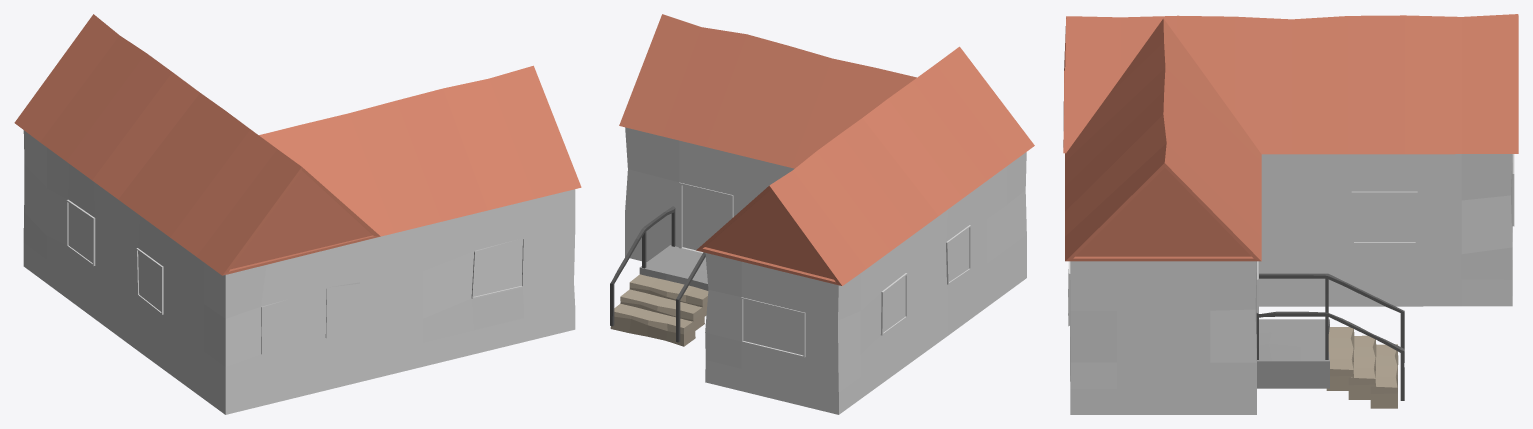
Rendered from dom_2.fbx.
3 renders of one model, left to right at view 1: azimuth 30°, elevation 25°; view 2: azimuth 150°, elevation 25°; view 3: azimuth 270°, elevation 25°, orthographic. The views are drawn at different scales.
Parts seen in each view (by area): view 1: house_main, roof_big, roof_small; view 2: house_main, roof_big, roof_small, stairs, platform, stairs_handles; view 3: house_main, roof_big, roof_small, platform, stairs, stairs_handles.
Part boxes in pixels (left/top/right/bottom): house_main: left=23, top=130, right=575, bottom=414; roof_big: left=14, top=14, right=380, bottom=275; roof_small: left=259, top=65, right=581, bottom=236; house_main: left=625, top=127, right=1026, bottom=414; roof_big: left=696, top=46, right=1034, bottom=285; roof_small: left=619, top=14, right=916, bottom=168; stairs: left=610, top=274, right=708, bottom=346; platform: left=639, top=245, right=708, bottom=290; stairs_handles: left=610, top=206, right=705, bottom=342; house_main: left=1068, top=154, right=1514, bottom=414; roof_big: left=1063, top=14, right=1518, bottom=154; roof_small: left=1065, top=18, right=1261, bottom=261; platform: left=1257, top=319, right=1329, bottom=388; stairs: left=1326, top=327, right=1398, bottom=408; stairs_handles: left=1256, top=273, right=1404, bottom=400.
Size of the model in its own units: 668 by 446 by 671.
